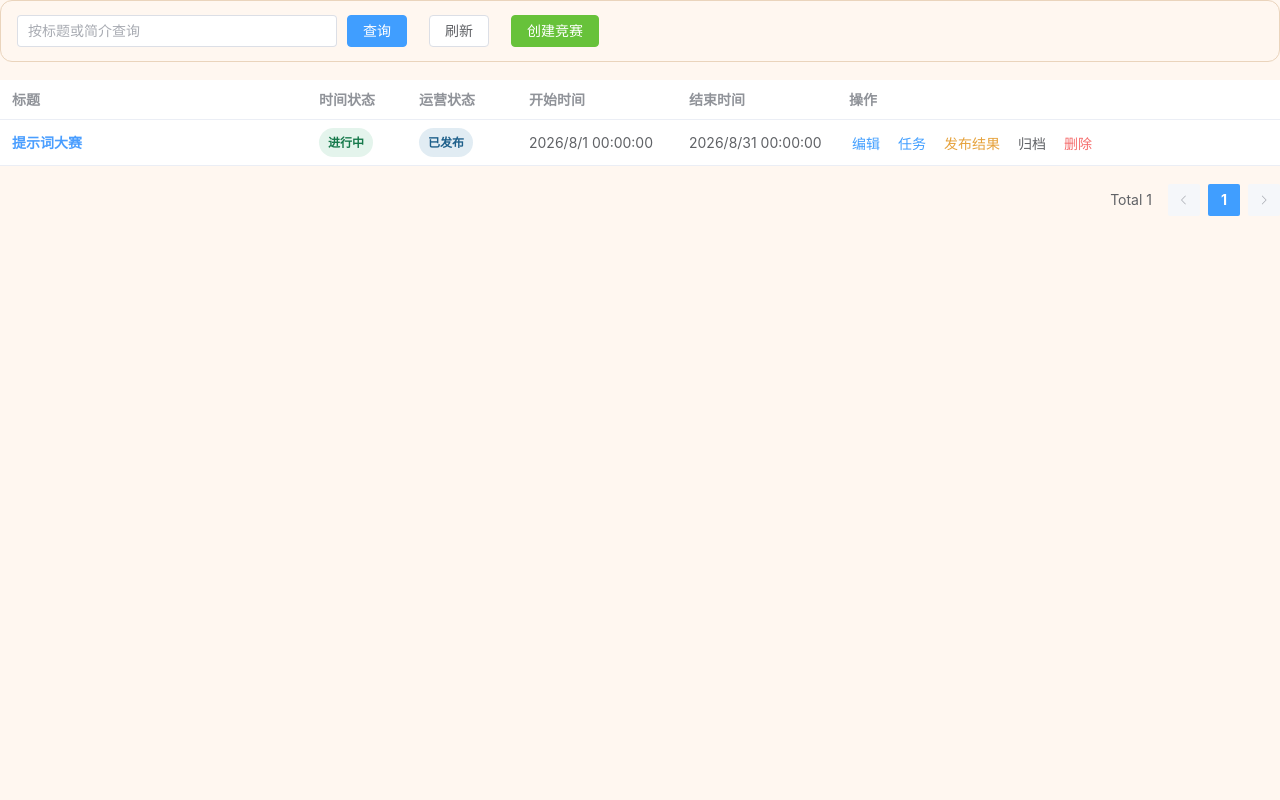
Test case: AdminCompetitionsPanel 组件 › 任务弹窗展示必做/选做与评审进度
The image size is (1280, 800).
Click the button "任务" at (912, 144), box [895, 134, 929, 154]
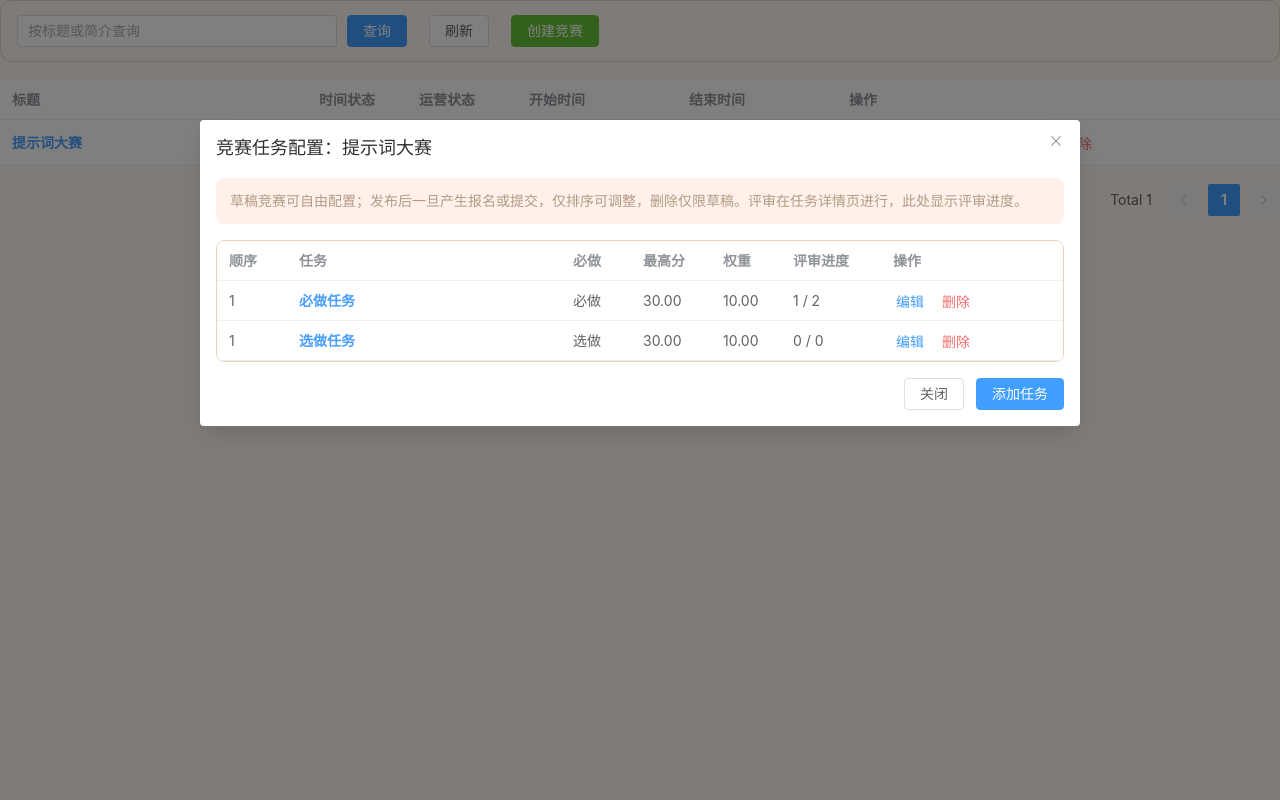
Expected: the text "必做任务" is shown, [299, 292, 355, 309]
Expected: the text "选做任务" is shown, [299, 332, 355, 349]
Expected: the text "1 / 2" is shown, [793, 292, 820, 309]
